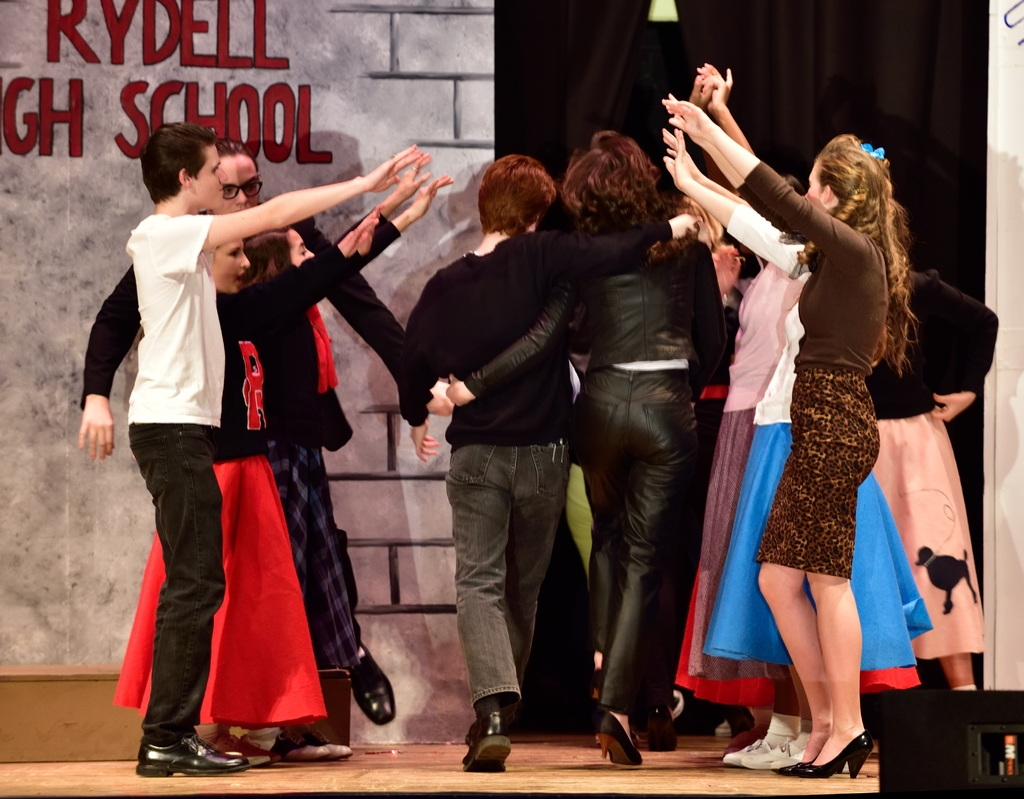Person: (80, 63, 998, 778)
